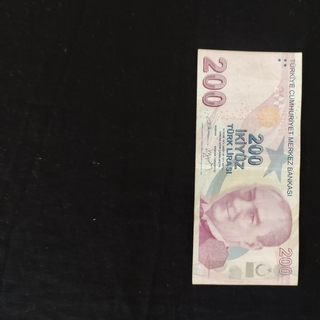200TLFront: (191, 48, 303, 286)
